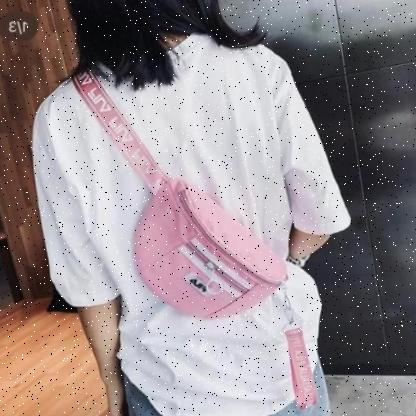bag: (131, 176, 300, 324)
person: (29, 0, 351, 416)
